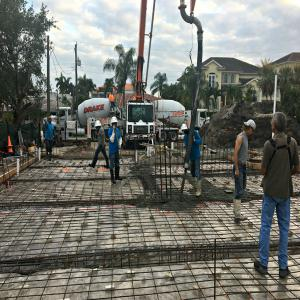none: (272, 110, 287, 134), (49, 117, 53, 124), (111, 91, 114, 96)
white: (246, 120, 257, 137), (112, 118, 119, 130), (182, 125, 189, 136), (96, 121, 102, 132)
